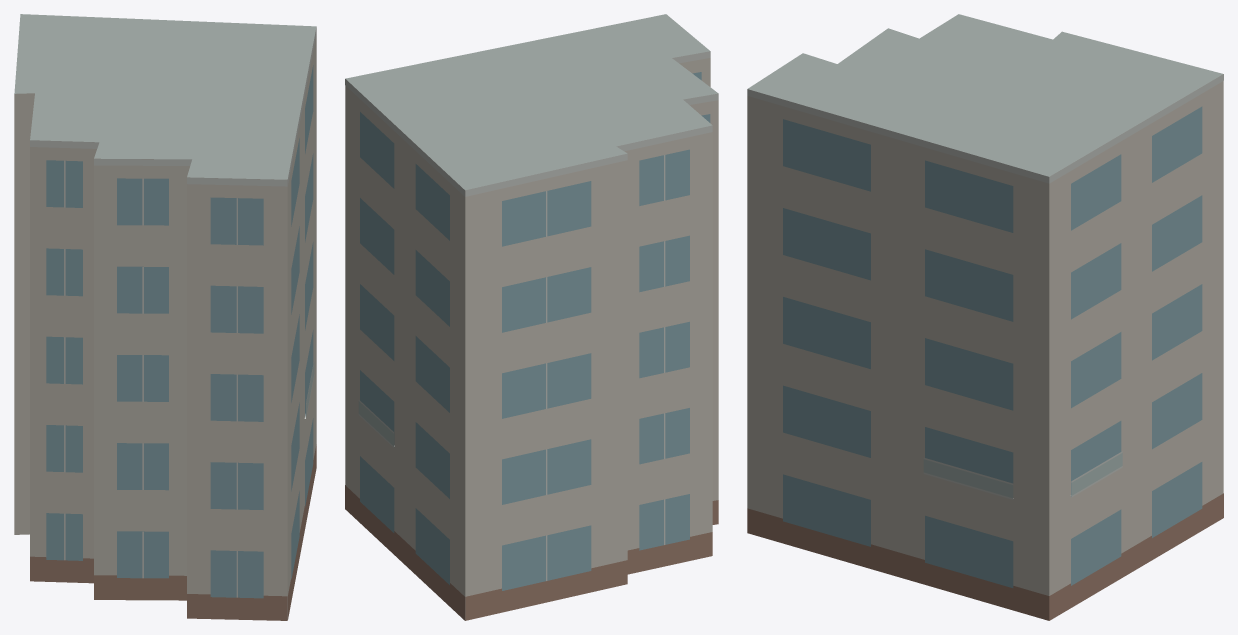
File: survey-upis-32718557.glb
The picture shows the model from 3 angles, left to right: view 1: azimuth 30°, elevation 25°; view 2: azimuth 150°, elevation 25°; view 3: azimuth 270°, elevation 25°; orthographic projection. The views are drawn at different scales.
Visible parts, largest first — view 1: survey-upis-32718557.tmp; view 2: survey-upis-32718557.tmp; view 3: survey-upis-32718557.tmp.
Part boxes in pixels (<box>): survey-upis-32718557.tmp: <box>14,14,316,620</box>; survey-upis-32718557.tmp: <box>345,14,718,620</box>; survey-upis-32718557.tmp: <box>747,14,1223,620</box>.
Size of the model in its own units: 12.52 by 15.9 by 15.47.
